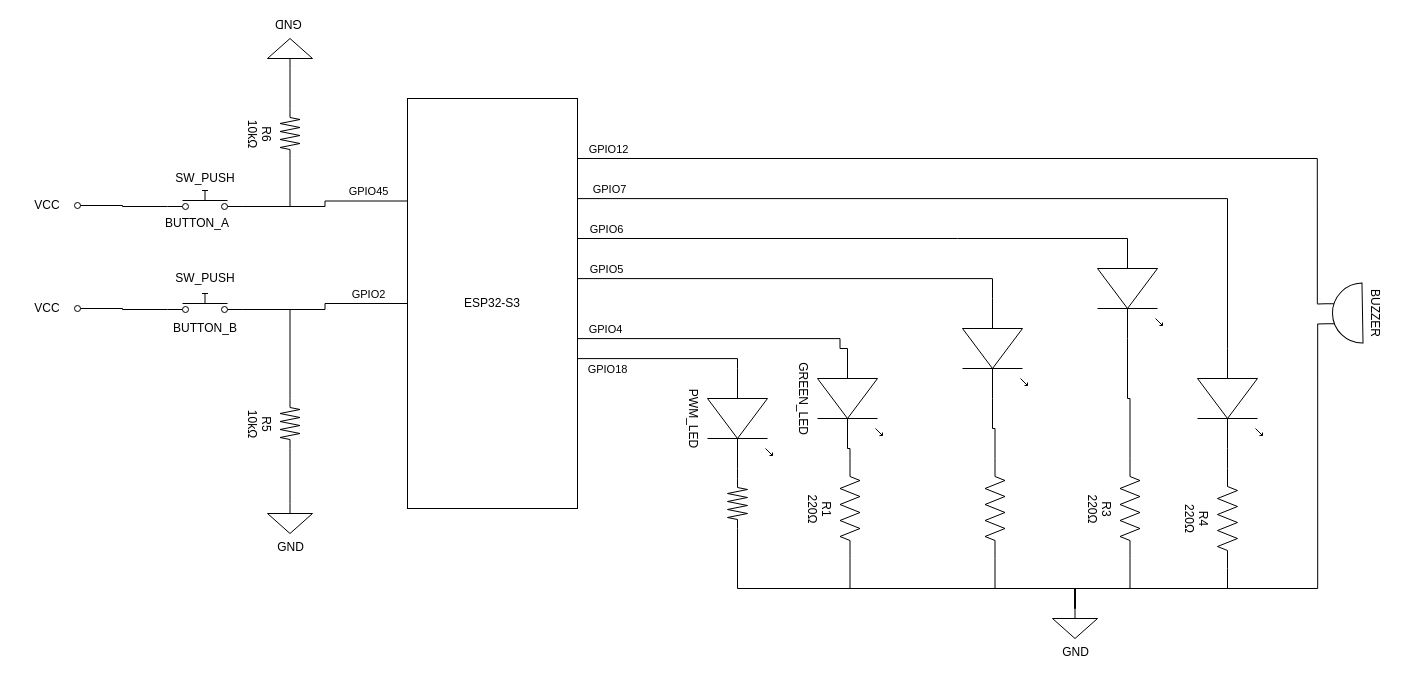
Some shapes in this 1407 by 676 pixel diagram are drawn without their labels. The shapes that lost their labels are listed below. From the top down, each one's centre as x and y in pixels, then its label:
At (x=1129, y=288): "RED_LED".
At (x=995, y=348): "YELLOW_LED".
At (x=1229, y=398): "BLUE_LED".
At (x=737, y=503): "R7 220Ω".
At (x=994, y=508): "R2 220Ω".
